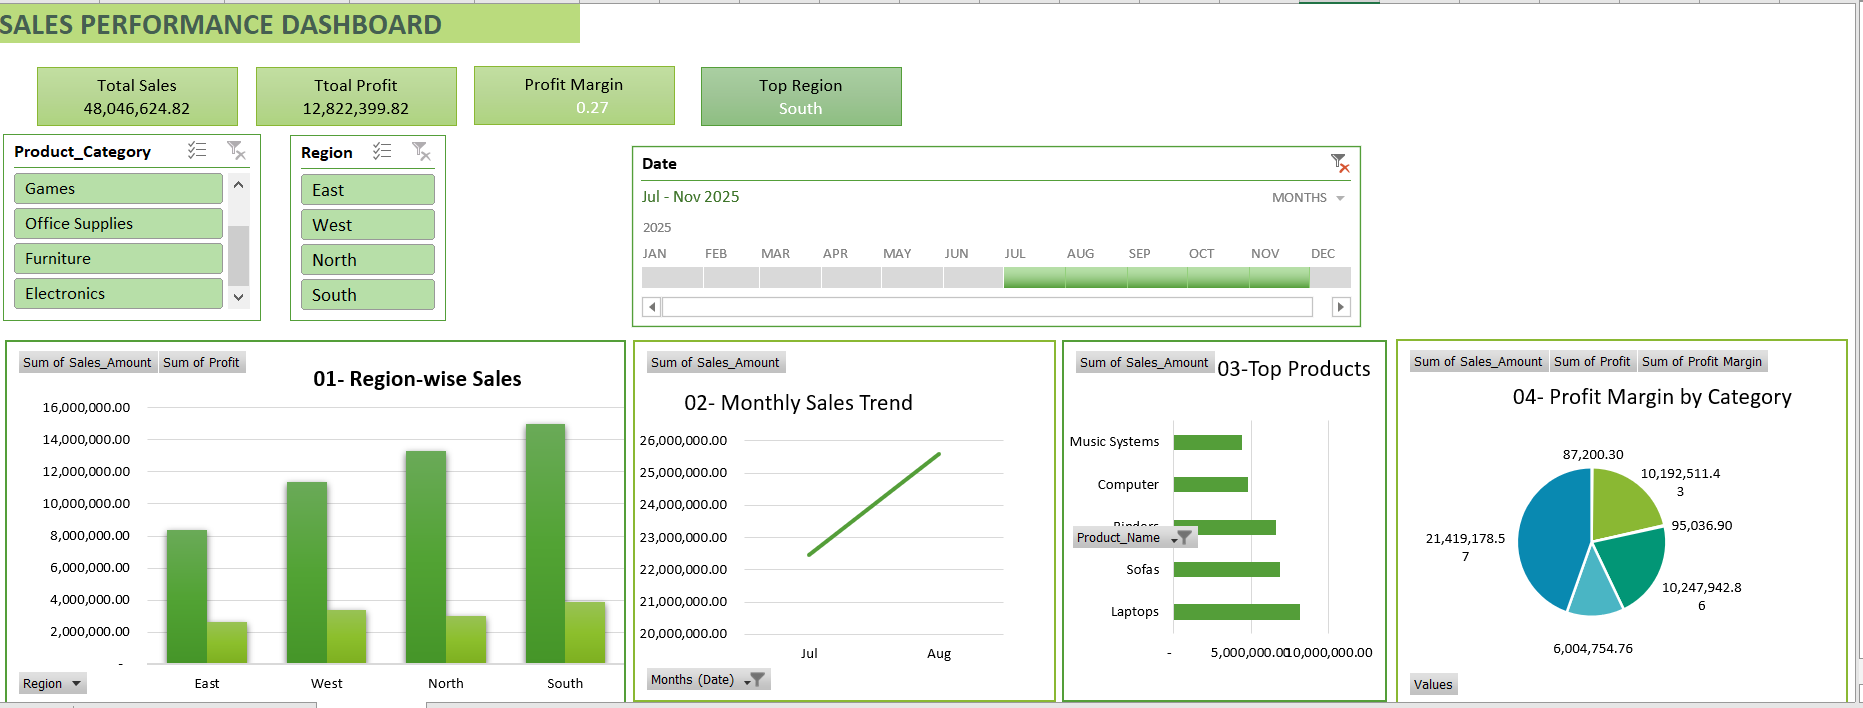

What the dashboard file says about the page in this screenshot:
{"tool":"powerbi","page":{"name":"Sales by Region","canvas":[1280,720],"ordinal":0},"visuals":[{"type":"columnChart","title":"Sales by Region","fields":{"Y":["Sum(Sales_Table.Sales_Amount)"],"Category":["Sales_Table.Region"]},"box":[368,448,464,240],"z":0},{"type":"lineChart","title":"Monthly Sales Trend","fields":{"Category":["Sales_Table.Date.Variation.Date Hierarchy.Month"],"Y":["Sum(Sales_Table.Sales_Amount)"]},"box":[224,192,288,240],"z":1000},{"type":"pieChart","title":"Profit by Product Category","fields":{"Y":["Sum(Sales_Table.2) Profit)"],"Category":["Sales_Table.Product_Category"]},"box":[16,448,336,240],"z":2000},{"type":"slicer","fields":{"Values":["Sales_Table.Region"]},"box":[16,192,192,112],"z":3000},{"type":"slicer","title":"Region","fields":{"Values":["Sales_Table.Product_Category"]},"box":[16,320,192,112],"z":4000},{"type":"card","fields":{"Values":["Sum(Sales_Table.Sales_Amount)"]},"box":[13.7,71.4,411.7,105.7],"z":5000},{"type":"card","title":"Sum of Profit","fields":{"Values":["Sum(Sales_Table.2) Profit)"]},"box":[854.9,71.4,410.3,108.4],"z":6000},{"type":"card","fields":{"Values":["Avg(Sales_Table.3) Average Profit Margin)"]},"box":[432.2,71.4,415.8,108.4],"z":7000},{"type":"textbox","box":[16,0,1248,64],"z":8000},{"type":"textbox","box":[854.9,687.5,411.7,32.9],"z":9000},{"type":"clusteredBarChart","title":"Top 5 Products by Sales","fields":{"Category":["Sales_Table.Product_Name"],"Y":["Sum(Sales_Table.Sales_Amount)"]},"box":[528,192,304,240],"z":10000},{"type":"tableEx","fields":{"Values":["Sales_Table.Product_Name","Sum(Sales_Table.Sales_Amount)","Sum(Sales_Table.2) Profit)","Sales_Table.Profit Margin"]},"box":[848,192,416,496],"z":11000},{"type":"actionButton","box":[0,0,96,32],"z":12000}]}

Visuals, with their boxes on the page's 1280x720 design canvas (x1, y1, x2, y2). These are canvas units, not pixel positions in the 1863x708 screenshot, which may show the page scaled, cropped or inside an application window:
"Sales by Region" columnChart: region(368, 448, 832, 688)
"Monthly Sales Trend" lineChart: region(224, 192, 512, 432)
"Profit by Product Category" pieChart: region(16, 448, 352, 688)
slicer - Sales_Table.Region: region(16, 192, 208, 304)
"Region" slicer: region(16, 320, 208, 432)
card - Sum(Sales_Table.Sales_Amount): region(14, 71, 425, 177)
"Sum of Profit" card: region(855, 71, 1265, 180)
card - Avg(Sales_Table.3) Average Profit Margin): region(432, 71, 848, 180)
textbox: region(16, 0, 1264, 64)
textbox: region(855, 688, 1267, 720)
"Top 5 Products by Sales" clusteredBarChart: region(528, 192, 832, 432)
tableEx - Sales_Table.Product_Name x Sum(Sales_Table.Sales_Amount): region(848, 192, 1264, 688)
actionButton: region(0, 0, 96, 32)
